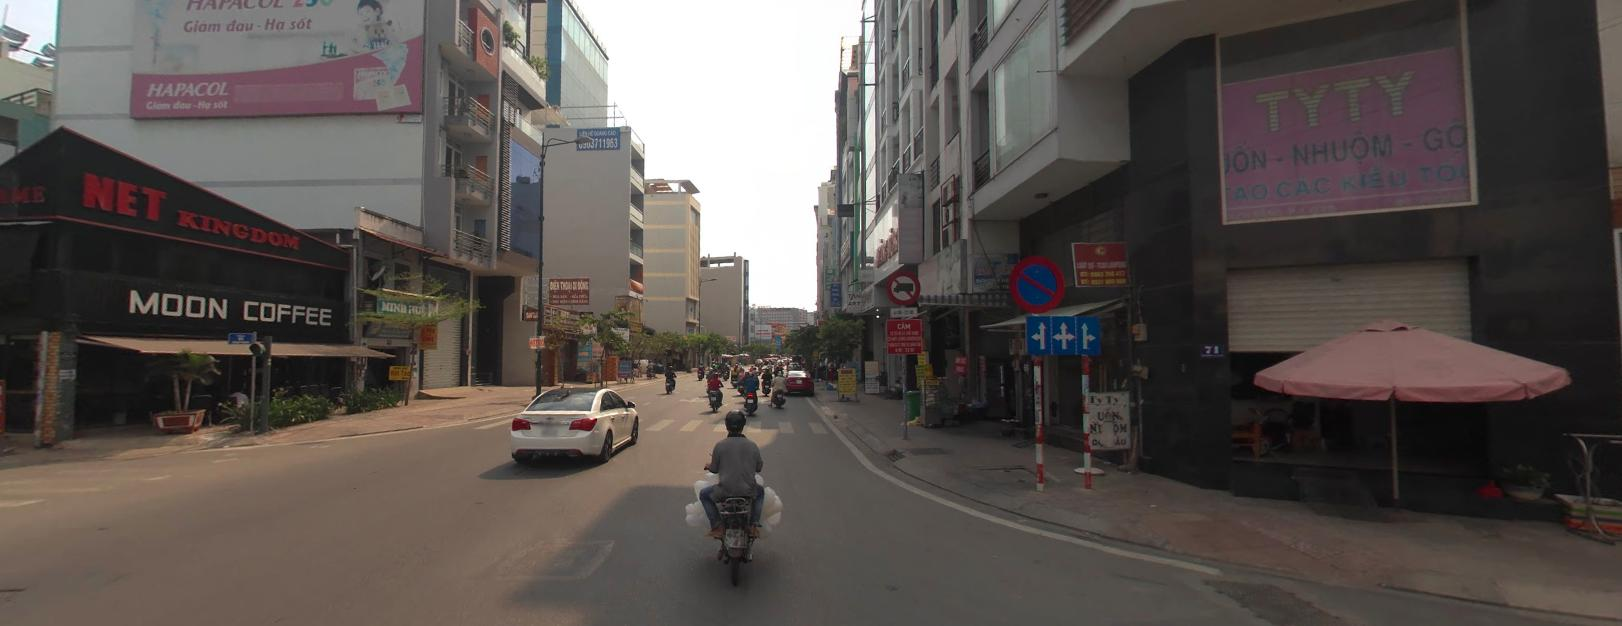Cam con lai: (885, 266, 921, 303)
Cam dung va do: (1008, 251, 1065, 312)
